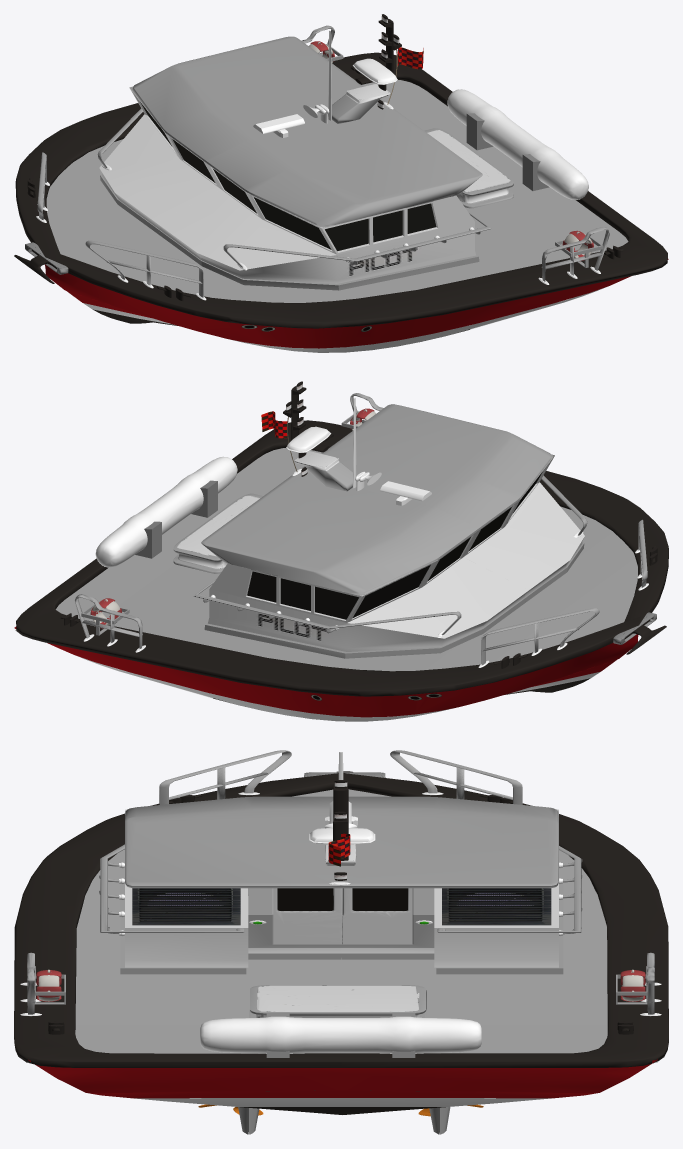
File: ship-pilot.glb
The picture shows the model from 3 angles, top to bottom: view 1: azimuth 30°, elevation 25°; view 2: azimuth 150°, elevation 25°; view 3: azimuth 270°, elevation 25°; orthographic projection. The views are drawn at different scales.
Parts seen in each view (by area): view 1: Object_16, Object_22, Object_12, Object_19, Object_15, Object_7, Object_20, Object_18; view 2: Object_16, Object_22, Object_12, Object_19, Object_15, Object_7, Object_20, Object_18; view 3: Object_16, Object_22, Object_12, Object_19, Object_15, Object_7, Object_17, Object_20, Object_14, Object_18, Object_13.
Boxes of the visible parts, bbox=[...] form: Object_16: bbox=[83, 36, 606, 352]; Object_22: bbox=[37, 25, 628, 302]; Object_12: bbox=[14, 14, 667, 334]; Object_19: bbox=[99, 87, 479, 290]; Object_15: bbox=[45, 258, 668, 348]; Object_7: bbox=[36, 30, 600, 300]; Object_20: bbox=[140, 102, 436, 250]; Object_18: bbox=[25, 113, 549, 274]; Object_16: bbox=[77, 404, 600, 721]; Object_22: bbox=[15, 393, 647, 671]; Object_12: bbox=[16, 381, 668, 703]; Object_19: bbox=[204, 454, 584, 658]; Object_15: bbox=[14, 626, 638, 717]; Object_7: bbox=[83, 397, 648, 667]; Object_20: bbox=[247, 472, 542, 619]; Object_18: bbox=[135, 480, 656, 644]; Object_16: bbox=[34, 796, 647, 1134]; Object_22: bbox=[27, 750, 657, 1062]; Object_12: bbox=[14, 771, 668, 1114]; Object_19: bbox=[120, 809, 563, 974]; Object_15: bbox=[28, 1059, 657, 1098]; Object_7: bbox=[20, 752, 661, 1053]; Object_17: bbox=[132, 888, 551, 925]; Object_20: bbox=[277, 888, 407, 910]; Object_14: bbox=[36, 970, 645, 1001]; Object_18: bbox=[266, 772, 415, 1057]; Object_13: bbox=[38, 969, 643, 1001].
Bounding box in the file's own units: 1 × 0.4778 × 0.9977.
Materials: 17 (14 with a texture image).
